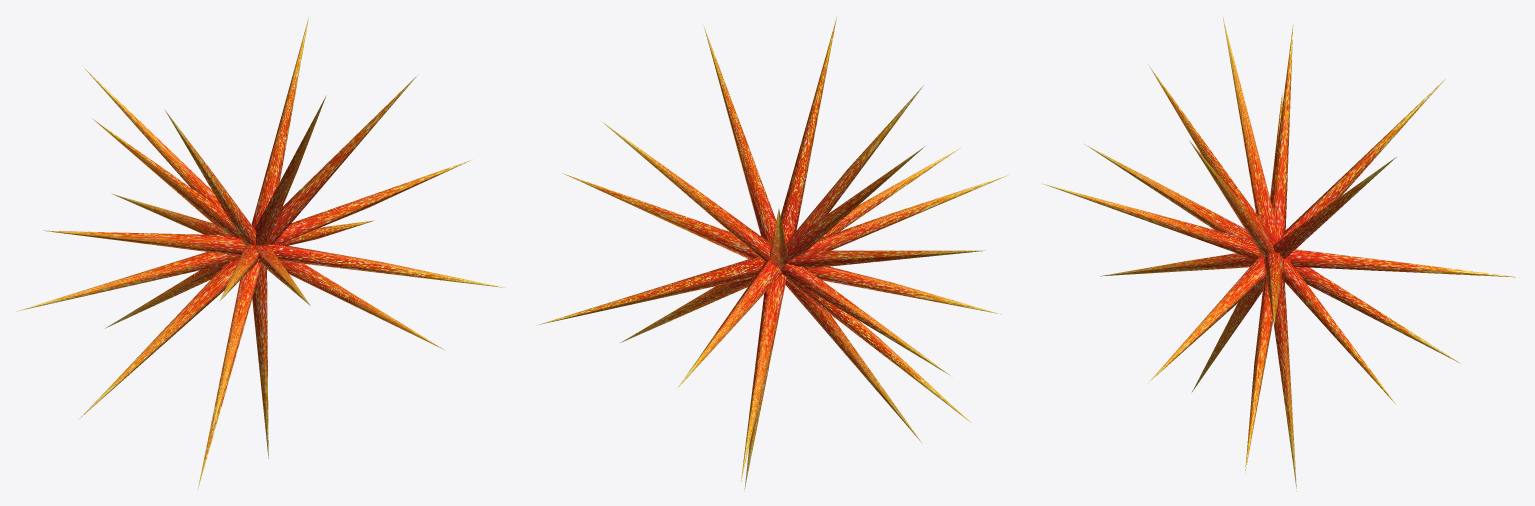
File: Virus6_MOBILE.FBX
3 renders of one model, left to right at view 1: azimuth 30°, elevation 25°; view 2: azimuth 150°, elevation 25°; view 3: azimuth 270°, elevation 25°, orthographic.
Parts seen in each view (by area): view 1: Virus6; view 2: Virus6; view 3: Virus6.
Part boxes in pixels (<box>): Virus6: <box>16,17,504,488</box>; Virus6: <box>537,17,1008,491</box>; Virus6: <box>1042,16,1517,491</box>.
Size of the model in its own units: 3.35 by 3.18 by 3.31.
